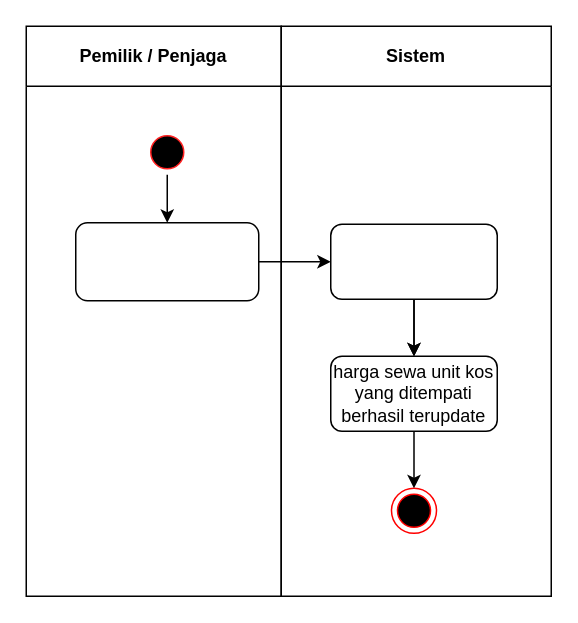
Image size: 578x623. Some labels were removed from this diagram. Each missing label, with the centre of its shape:
"mengedit besaran biaya unit kos yang dibooking penghuni" belongs at point 166,261.
"mengupdate harga sewa unit kos yang ditempati" belongs at point 413,261.
